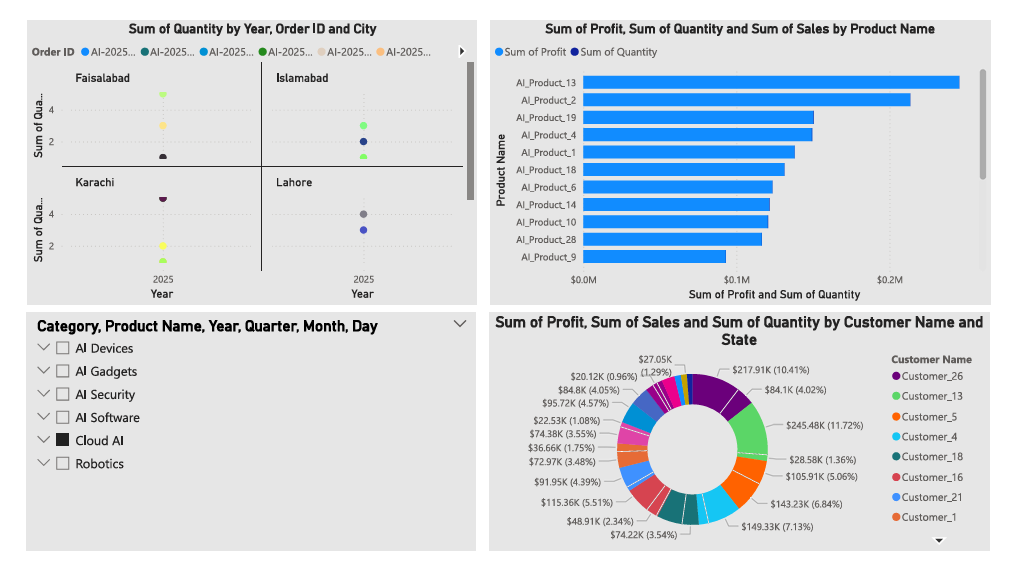

What the dashboard file says about the page in this screenshot:
{"tool":"powerbi","page":{"name":"Page 2","canvas":[1280,720],"ordinal":1},"visuals":[{"type":"lineChart","fields":{"Category":["AI_Tech_Sales_2025_Updated.Ship Date.Variation.Date Hierarchy.Year","AI_Tech_Sales_2025_Updated.Ship Date.Variation.Date Hierarchy.Quarter","AI_Tech_Sales_2025_Updated.Ship Date.Variation.Date Hierarchy.Month","AI_Tech_Sales_2025_Updated.Ship Date.Variation.Date Hierarchy.Day","AI_Tech_Sales_2025_Updated.Order Date.Variation.Date Hierarchy.Year","AI_Tech_Sales_2025_Updated.Order Date.Variation.Date Hierarchy.Quarter","AI_Tech_Sales_2025_Updated.Order Date.Variation.Date Hierarchy.Month","AI_Tech_Sales_2025_Updated.Order Date.Variation.Date Hierarchy.Day"],"Series":["AI_Tech_Sales_2025_Updated.Order ID"],"Y":["Sum(AI_Tech_Sales_2025_Updated.Quantity)"],"Rows":["AI_Tech_Sales_2025_Updated.City"]},"box":[30.7,30.7,564.9,357.1],"z":0},{"type":"barChart","fields":{"Category":["AI_Tech_Sales_2025_Updated.Product Name"],"Y":["Sum(AI_Tech_Sales_2025_Updated.Profit)","Sum(AI_Tech_Sales_2025_Updated.Quantity)"]},"box":[611.7,30.7,627.8,357.1],"z":1000},{"type":"slicer","fields":{"Values":["AI_Tech_Sales_2025_Updated.Category","AI_Tech_Sales_2025_Updated.Product Name","AI_Tech_Sales_2025_Updated.Order Date.Variation.Date Hierarchy.Year","AI_Tech_Sales_2025_Updated.Order Date.Variation.Date Hierarchy.Quarter","AI_Tech_Sales_2025_Updated.Order Date.Variation.Date Hierarchy.Month","AI_Tech_Sales_2025_Updated.Order Date.Variation.Date Hierarchy.Day"]},"box":[30.2,398.1,564.4,299],"z":2000},{"type":"donutChart","fields":{"Y":["Sum(AI_Tech_Sales_2025_Updated.Profit)"],"Category":["AI_Tech_Sales_2025_Updated.Customer Name"],"Series":["AI_Tech_Sales_2025_Updated.State"]},"box":[611,398,628,299],"z":3000}]}

Visuals, with their boxes in screenshot pixels (x1, y1, x2, y2), scaled from the page's 1280x720 canvas onto the 1015x572 screenshot:
lineChart - AI_Tech_Sales_2025_Updated.Ship Date.Variation.Date Hierarchy.Year x AI_Tech_Sales_2025_Updated.Ship Date.Variation.Date Hierarchy.Quarter: <box>24,24,472,308</box>
barChart - AI_Tech_Sales_2025_Updated.Product Name x Sum(AI_Tech_Sales_2025_Updated.Profit): <box>485,24,983,308</box>
slicer - AI_Tech_Sales_2025_Updated.Category x AI_Tech_Sales_2025_Updated.Product Name: <box>24,316,471,554</box>
donutChart - Sum(AI_Tech_Sales_2025_Updated.Profit) x AI_Tech_Sales_2025_Updated.Customer Name: <box>485,316,982,554</box>
